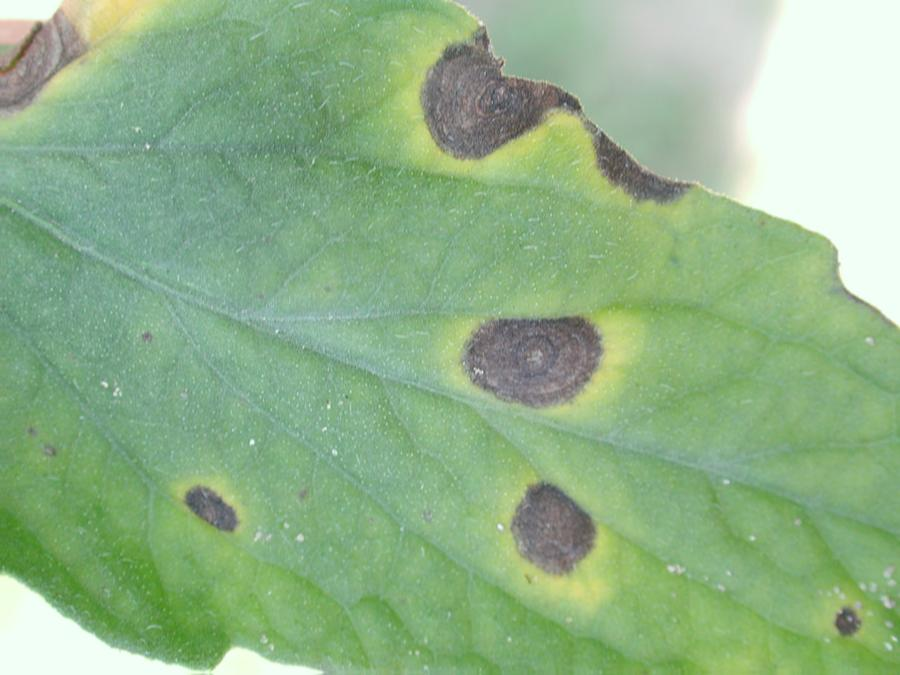Tomato Early blight leaf: (3, 10, 894, 663)
